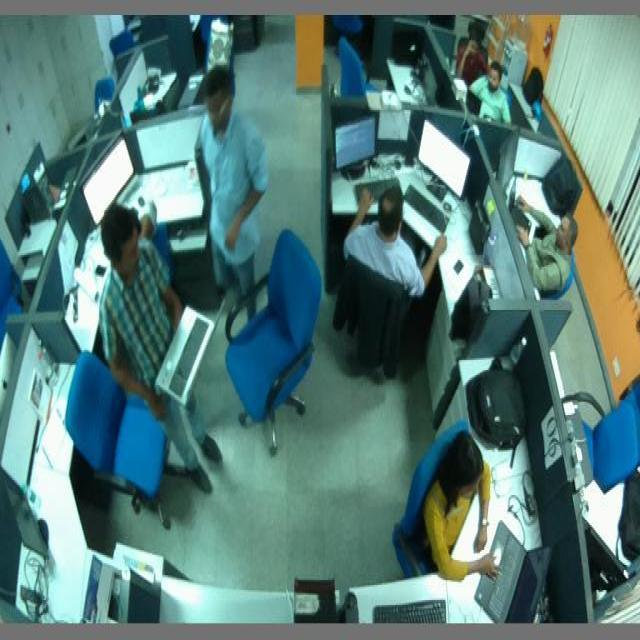chair: (220, 228, 324, 454), (65, 348, 178, 528), (563, 393, 640, 490), (336, 39, 378, 101), (110, 26, 136, 52), (334, 15, 366, 35), (92, 78, 115, 102)
keyboard: (404, 181, 450, 234), (353, 181, 402, 201)
laptop: (476, 520, 551, 625), (154, 304, 224, 404)
monitor: (84, 132, 138, 225), (418, 116, 472, 202), (584, 516, 628, 596), (8, 490, 54, 565), (332, 115, 377, 170), (494, 134, 516, 186)
person: (100, 203, 224, 495), (196, 67, 268, 353), (422, 430, 503, 588), (344, 185, 448, 297), (512, 197, 578, 290), (472, 63, 512, 125), (459, 30, 486, 82)
phone: (452, 253, 464, 274)
